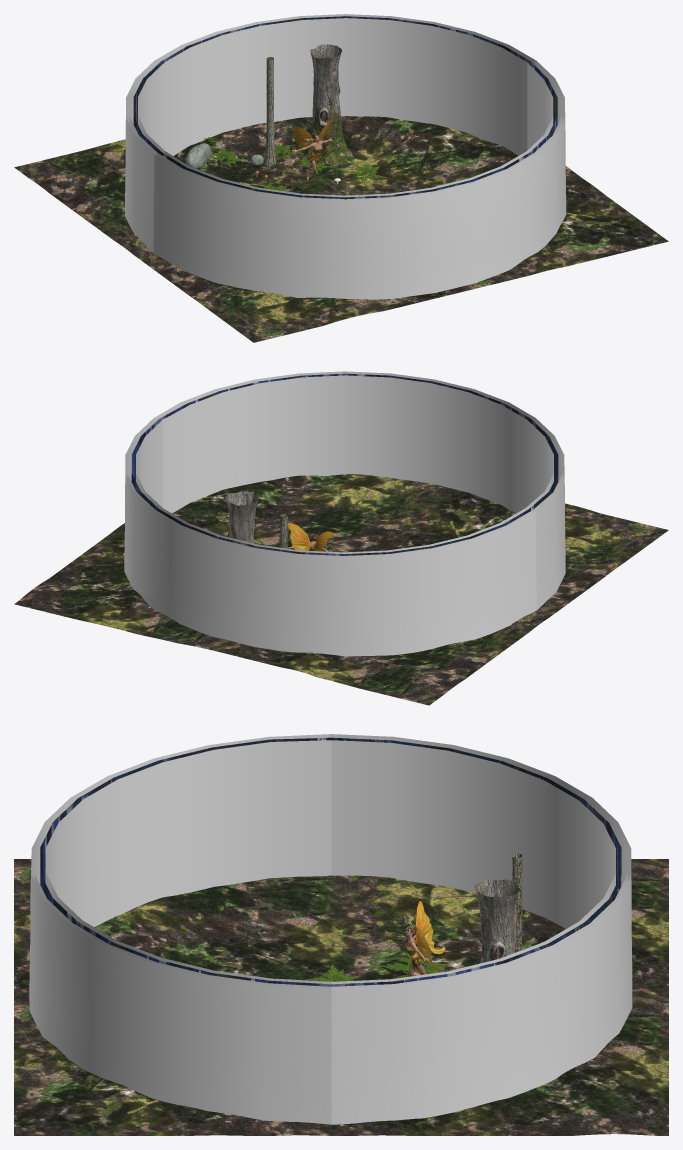
3 renders of one model, top to bottom at view 1: azimuth 30°, elevation 25°; view 2: azimuth 150°, elevation 25°; view 3: azimuth 270°, elevation 25°, orthographic. The views are drawn at different scales.
Visible parts, largest first — view 1: TilingTerrain, SkyCentre_Wallsback, SkyRight_Wallsback, Weather_Right, Weather_Centre, Trunk, SkyLeft, SkyLeft_Wallsback, Weather_Left, Weather_Left_Wallsback, Tree, Cloud_Right (+8 smaller); view 2: TilingTerrain, SkyLeft, SkyCentre, Weather_Centre_Wallsback, Weather_Left_Wallsback, SkyRight_Wallsback, SkyRight, Weather_Right, Weather_Right_Wallsback, Trunk, Wing3out, Cloud_Left (+9 smaller); view 3: TilingTerrain, SkyLeft_Wallsback, SkyRight, Weather_Right_Wallsback, Weather_Left, SkyCentre_Wallsback, SkyCentre, Weather_Centre, Weather_Centre_Wallsback, Trunk, Cloud_Right_Wallsback, Cloud_Left (+13 smaller).
Boxes of the visible parts, left/top/right/bottom form: TilingTerrain: left=14, top=116, right=668, bottom=342; SkyCentre_Wallsback: left=345, top=154, right=537, bottom=299; SkyRight_Wallsback: left=153, top=154, right=345, bottom=298; Weather_Right: left=346, top=18, right=527, bottom=155; Weather_Centre: left=164, top=18, right=345, bottom=155; Trunk: left=297, top=44, right=354, bottom=167; SkyLeft: left=125, top=61, right=154, bottom=252; SkyLeft_Wallsback: left=536, top=61, right=566, bottom=251; Weather_Left: left=138, top=63, right=164, bottom=153; Weather_Left_Wallsback: left=526, top=62, right=553, bottom=153; Tree: left=264, top=57, right=276, bottom=165; Cloud_Right: left=346, top=14, right=534, bottom=64; TilingTerrain: left=14, top=474, right=668, bottom=705; SkyLeft: left=345, top=511, right=536, bottom=656; SkyCentre: left=153, top=511, right=344, bottom=656; Weather_Centre_Wallsback: left=346, top=375, right=526, bottom=513; Weather_Left_Wallsback: left=163, top=375, right=345, bottom=513; SkyRight_Wallsback: left=536, top=418, right=565, bottom=609; SkyRight: left=124, top=418, right=153, bottom=608; Weather_Right: left=136, top=420, right=162, bottom=510; Weather_Right_Wallsback: left=525, top=420, right=553, bottom=510; Trunk: left=225, top=491, right=258, bottom=543; Wing3out: left=287, top=523, right=333, bottom=551; Cloud_Left: left=344, top=510, right=532, bottom=557; TilingTerrain: left=14, top=859, right=668, bottom=1135; SkyLeft_Wallsback: left=68, top=925, right=331, bottom=1124; SkyRight: left=331, top=925, right=593, bottom=1124; Weather_Right_Wallsback: left=82, top=740, right=331, bottom=927; Weather_Left: left=331, top=740, right=579, bottom=928; SkyCentre_Wallsback: left=29, top=798, right=70, bottom=1058; SkyCentre: left=592, top=798, right=632, bottom=1057; Weather_Centre: left=579, top=801, right=615, bottom=925; Weather_Centre_Wallsback: left=46, top=800, right=82, bottom=924; Trunk: left=474, top=879, right=520, bottom=963; Cloud_Right_Wallsback: left=72, top=735, right=331, bottom=802; Cloud_Left: left=331, top=735, right=589, bottom=803.
Size of the model in its own units: 6.27 by 1.6 by 6.27.
